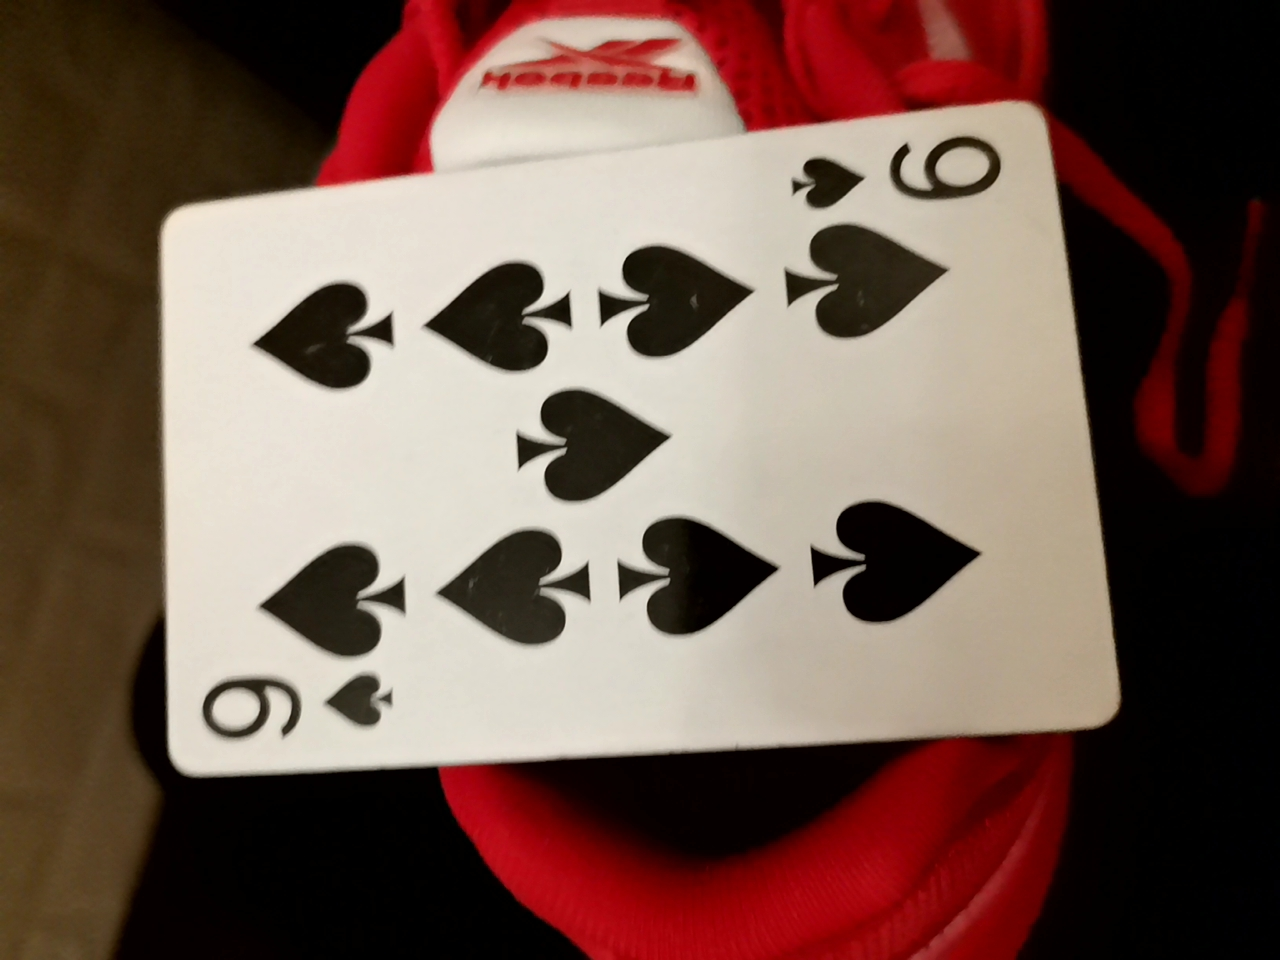ht 9: (140, 86, 1122, 776)
